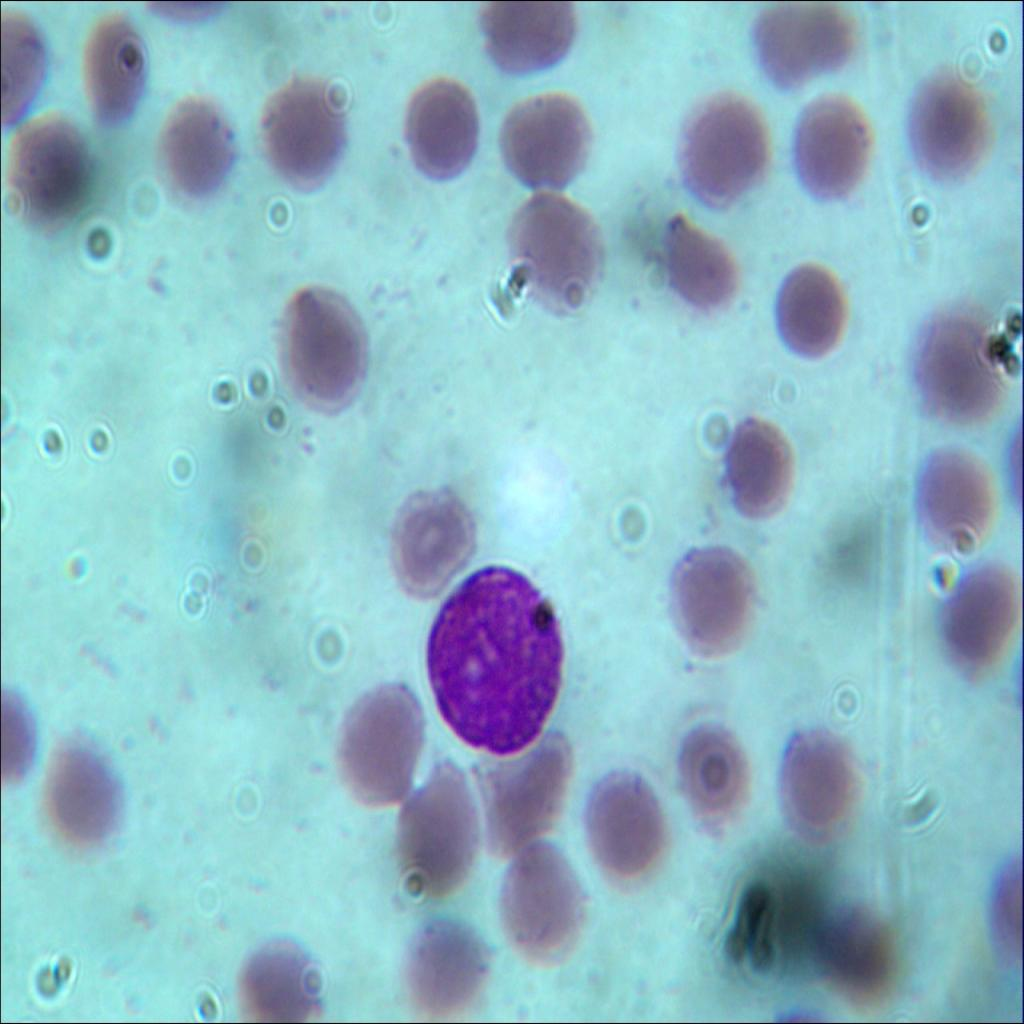Eritrosit: (910, 295, 1020, 428), (268, 276, 366, 422), (495, 840, 588, 975), (662, 530, 759, 658), (144, 88, 238, 214), (328, 678, 422, 804), (376, 468, 470, 594), (253, 67, 348, 191), (6, 109, 95, 239), (393, 67, 486, 191), (36, 738, 138, 851), (400, 898, 490, 1019), (784, 88, 870, 214), (679, 87, 768, 208), (898, 62, 986, 183), (68, 12, 158, 130), (773, 717, 863, 835), (496, 82, 593, 191), (479, 735, 569, 852), (513, 189, 601, 308), (581, 760, 664, 886), (743, 8, 855, 98), (710, 401, 796, 515), (933, 562, 1016, 679), (406, 761, 478, 894), (906, 438, 998, 542), (762, 258, 846, 371), (666, 719, 748, 828), (469, 0, 586, 75), (236, 935, 326, 1023), (671, 214, 743, 310)
Limfoblast: (415, 554, 568, 755)
